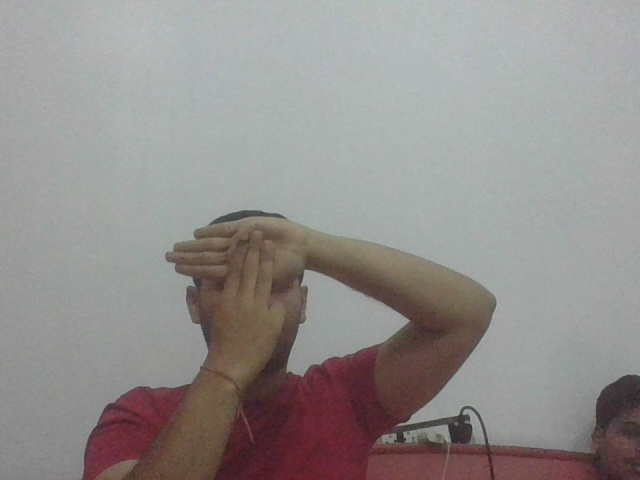M: (164, 216, 314, 347)
